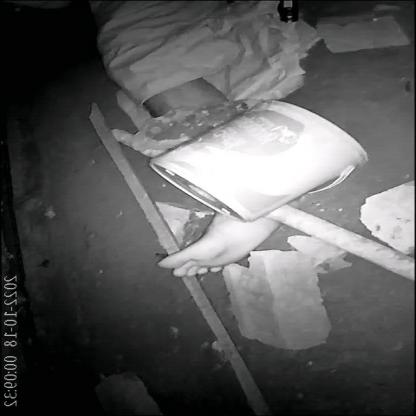leg: (97, 175, 307, 275)
